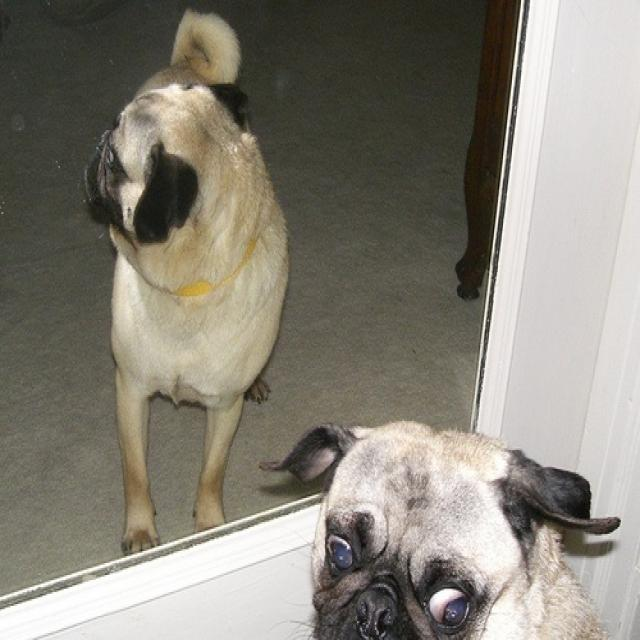dog: (78, 7, 289, 551), (255, 416, 622, 631)
